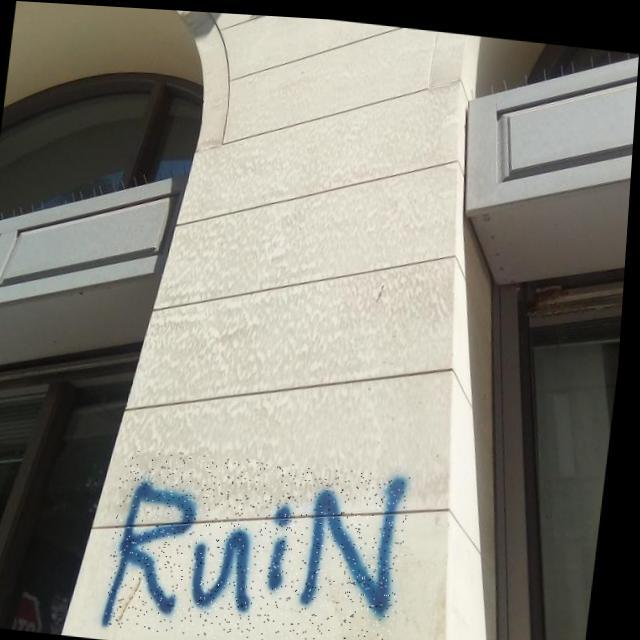-: (110, 443, 418, 640)
